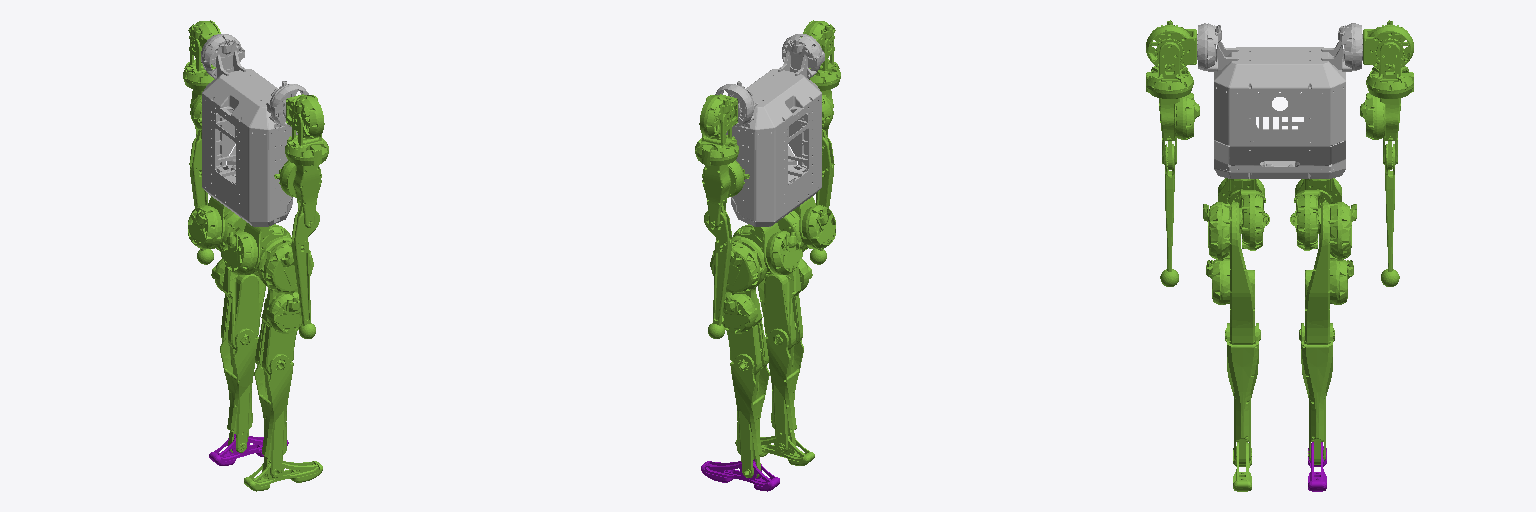
robot.urdf — humanoid:
<?xml version="1.0" encoding="utf-8"?>

<!-- URDF for MIT Humanoid
Version Specifics: "Full" and "Simple Foot"
Full: collision geometries for all links
Simple Foot: foot approximated as single box-contact -->

<robot
  name="humanoid">
  <link
    name="base">
    <inertial>
      <origin
        xyz="0.009598 0.000935 0.151714"
        rpy="0 0 0" />
      <mass value="7.954054" />
      <inertia
        ixx="0.168459"
        ixy="0.000124"
        ixz="0.006493"
        iyy="0.101358"
        iyz="0.000278"
        izz="0.091754" />
    </inertial>
    <visual>
      <origin
        xyz="0 0 0"
        rpy="0 0 0" />
      <geometry>
        <mesh
          filename="../meshes/torso.stl" scale="0.001 0.001 0.001" />
      </geometry>
      <material
        name="">
        <color
          rgba="0.752941176470588 0.752941176470588 0.752941176470588 1" />
      </material>
    </visual>
     <collision>
            <origin rpy="0 0 0" xyz="0.023 0. 0.08"/>
            <geometry>
                <box size="0.15 0.3 0.35"/>
            </geometry>
    </collision>
  </link>
  <link
    name="left_hip_yaw">
    <inertial>
      <origin
        xyz="-0.065362  -0.000128  -0.063947"
        rpy="0 0 0" />
      <mass value=" 0.842752" />
      <inertia
        ixx="0.001502 "
        ixy="0.000004 "
        ixz="0.000533"
        iyy="0.001361 "
        iyz="0.000000"
        izz="0.001170" />
    </inertial>
    <visual>
      <origin
        xyz="0 0 0"
        rpy="0 0 0" />
      <geometry>
        <mesh
          filename="../meshes/left_hip_yaw.stl" scale="0.001 0.001 0.001" />
      </geometry>
      <material
        name="">
        <color
          rgba="0.52941176470588 0.752941176470588 0.2941176470588 1" />
      </material>
    </visual>
  </link>
  <joint
    name="left_hip_yaw"
    type="revolute">
    <origin
      xyz="0 0.082 0"
      rpy="0 -0.174533 0" />
    <parent
      link="base" />
    <child
      link="left_hip_yaw" />
    <axis
      xyz="0 0 -1" />
    <limit effort="34" lower="-3" upper="3" velocity="48"/>
  </joint>
  <link
    name="left_hip_abad">
    <inertial>
      <origin
        xyz=" 0.067579  -0.013035 0.000132"
        rpy="0 0 0" />
      <mass value="1.199631" />
      <inertia
        ixx="0.001745 "
        ixy="0.000003 "
        ixz=" -0.000082"
        iyy="0.003338 "
        iyz=" -0.000010 "
        izz=" 0.001951" />
    </inertial>
    <visual>
      <origin
        xyz="0 0 0"
        rpy="0 0 0" />
      <geometry>
        <mesh
          filename="../meshes/left_hip_abad.stl" scale="0.001 0.001 0.001"/>
      </geometry>
      <material
        name="">
        <color
          rgba="0.52941176470588 0.752941176470588 0.2941176470588 1" />
      </material>
    </visual>
  </link>
  <joint
    name="left_hip_abad"
    type="revolute">
    <origin
      xyz="-0.06435 0 -.07499"
      rpy="0.0 0.436332 0.0"/>
    <parent
      link="left_hip_yaw" />
    <child
      link="left_hip_abad" />
    <axis
      xyz="1 0 0" />
          <limit effort="34" lower="-3" upper="3" velocity="48"/>
  </joint>
 <link 
    name="left_upper_leg">
    <inertial>
      <origin
        xyz=" -0.001100  0.026032 -0.078842"
        rpy="0 0 0" />
      <mass value="2.634789" />
      <inertia
        ixx="0.024489 "
        ixy="0.000068 "
        ixz=" 0.000512 "
        iyy="0.026049 "
        iyz="0.002657 "
        izz="0.003812 " />
    </inertial>
    <visual>
      <origin
        xyz="0 0 0"
        rpy="0 0 0" />
      <geometry>
        <mesh
          filename="../meshes/left_leg_upper.stl" scale="0.001 0.001 0.001" />
      </geometry>
      <material
        name="">
        <color
          rgba="0.52941176470588 0.752941176470588 0.2941176470588 1" />
      </material>
    </visual>
    <collision>
        <origin rpy="0 0 0" xyz="0.0 0.0 -0.16"/>
        <geometry>
            <cylinder radius="0.035" length="0.18"/>
        </geometry>
    </collision>
  </link>
  <joint
    name="left_hip_pitch"
    type="revolute">
    <origin
      xyz="0.08837 -0.00284 -0.01385"
      rpy="0 -0.261799 0" />
    <parent
      link="left_hip_abad" />
    <child
      link="left_upper_leg" />
    <axis
      xyz="0 1 0" />
          <limit effort="72" lower="-3" upper="3" velocity="40"/>
  </joint>

  <link
    name="left_lower_leg">
    <inertial>
      <origin
        xyz="0.005232 0.000457  -0.131581"
        rpy="0 0 0" />
      <mass value="0.346291" />
      <inertia
        ixx=" 0.002952 "
        ixy=" 0.0"
        ixz=" 0.000083"
        iyy=" 0.002943"
        iyz=" 0.000033"
        izz=" 0.000238" />
    </inertial>
    <visual>
      <origin
        xyz="0 0 0"
        rpy="0 0 0" />
      <geometry>
        <mesh
          filename="../meshes/left_leg_lower.stl" scale="0.001 0.001 0.001" />
      </geometry>
      <material
        name="">
        <color
          rgba="0.52941176470588 0.752941176470588 0.2941176470588 1" />
      </material>
    </visual>
    <collision>
        <origin rpy="0 0 0" xyz="0.0 0.0 -0.15"/>
        <geometry>
            <cylinder radius="0.035" length="0.16"/>
        </geometry>
    </collision>
  </link>
  <joint
    name="left_knee"
    type="revolute">
    <origin
      xyz="-0.01306 0.0 -0.24916"
      rpy="0 0 0" />
    <parent
      link="left_upper_leg" />
    <child
      link="left_lower_leg" />
    <axis
      xyz="0 1 0" />
          <limit effort="144" lower="0." upper="3." velocity="20"/>
  </joint>

   <link
    name="left_foot">
    <inertial>
      <origin
        xyz="0.022696 0.0 -0.013879 "
        rpy="0 0 0" />
      <mass value=" 0.279583" />
      <inertia
        ixx="0.000092"
        ixy="0.0"
        ixz="-0.000054 "
        iyy="0.08 "
        iyz="0.0 "
        izz="0.000769" />
    </inertial>
    <!-- Foot inertia Iyy default: 0.000806
    Modified to account for reflected motor inertia -->
    <visual>
      <origin
        xyz="0 0 0"
        rpy="0 0 0" />
      <geometry>
        <mesh
          filename="../meshes/left_foot.stl" scale="0.001 0.001 0.001"/>
      </geometry>
      <material
        name="">
        <color
          rgba="0.63671875 0.12109375 0.752941176470588 1" />
      </material>
    </visual>
    <collision>
        <origin rpy="1.57079 0 0" xyz="0.03 0.0 -0.03"/>
        <geometry>
            <box size="0.20 0.02 0.04"/>
        </geometry>
    </collision>
  </link>
  <joint
    name="left_ankle"
    type="revolute">
    <origin
      xyz="0.0 0.0 -0.2785"
      rpy="0 0 0" />
    <parent
      link="left_lower_leg" />
    <child
      link="left_foot" />
    <axis
      xyz="0 1 0" />
          <limit effort="68" lower="-1.5" upper="1.5" velocity="24"/>
  </joint>
 <link
    name="right_hip_yaw">
    <inertial>
      <origin
        xyz="-0.065362  0.000128  -0.063947"
        rpy="0 0 0" />
      <mass value=" 0.842752" />
      <inertia
        ixx="0.001502 "
        ixy="-0.000004 "
        ixz="-0.000533"
        iyy="0.001361 "
        iyz="0.000000"
        izz="0.001170" />
    </inertial>
    <visual>
      <origin
        xyz="0 0 0"
        rpy="0 0 0" />
      <geometry>
        <mesh
          filename="../meshes/left_hip_yaw.stl" scale="0.001 -0.001 0.001" />
      </geometry>
      <material
        name="">
        <color
          rgba="0.52941176470588 0.752941176470588 0.2941176470588 1" />
      </material>
    </visual>
  </link>
  <joint
    name="right_hip_yaw"
    type="revolute">
    <origin
      xyz="0 -0.082 0"
      rpy="0 -0.174533 0" />
    <parent
      link="base" />
    <child
      link="right_hip_yaw" />
    <axis
      xyz="0 0 1" />
    <limit effort="34" lower="-3" upper="3" velocity="48"/>
  </joint>
  
  <link
    name="right_hip_abad">
    <inertial>
      <origin
        xyz=" 0.067579  0.013035 0.000132"
        rpy="0 0 0" />
      <mass value="1.199631" />
      <inertia
        ixx="0.001745 "
        ixy="-0.000003 "
        ixz=" 0.000082"
        iyy="0.003338 "
        iyz=" -0.000010 "
        izz=" 0.001951" />
    </inertial>
    <visual>
      <origin
        xyz="0 0 0"
        rpy="0 0 0" />
      <geometry>
        <mesh
          filename="../meshes/left_hip_abad.stl" scale="0.001 -0.001 0.001"/>
      </geometry>
      <material
        name="">
        <color
          rgba="0.52941176470588 0.752941176470588 0.2941176470588 1" />
      </material>
    </visual>
  </link>
  <joint
    name="right_hip_abad"
    type="revolute">
    <origin
      xyz="-0.06435 0 -.07499"
      rpy="0.0 0.436332 0.0"/>
    <parent
      link="right_hip_yaw" />
    <child
      link="right_hip_abad" />
    <axis
      xyz="-1 0 0" />
          <limit effort="34" lower="-3" upper="3" velocity="48"/>
  </joint>
  
 <link
    name="right_upper_leg">
    <inertial>
      <origin
        xyz=" -0.001100  -0.026032 -0.078842"
        rpy="0 0 0" />
      <mass value="2.634789" />
      <inertia
        ixx="0.024489 "
        ixy="-0.000068 "
        ixz=" -0.000512 "
        iyy="0.026049 "
        iyz="0.002657 "
        izz="0.003812 " />
    </inertial>
    <visual>
      <origin
        xyz="0 0 0"
        rpy="0 0 0" />
      <geometry>
        <mesh
          filename="../meshes/left_leg_upper.stl" scale="0.001 -0.001 0.001" />
      </geometry>
      <material
        name="">
        <color
          rgba="0.52941176470588 0.752941176470588 0.2941176470588 1" />
      </material>
    </visual>
    <collision>
        <origin rpy="0 0 0" xyz="0.0 0.0 -0.16"/>
        <geometry>
            <cylinder radius="0.035" length="0.18"/>
        </geometry>
    </collision>
  </link>
  <joint
    name="right_hip_pitch"
    type="revolute">
    <origin
      xyz="0.08837 0.00284 -0.01385"
      rpy="0 -0.261799 0" />
    <parent
      link="right_hip_abad" />
    <child
      link="right_upper_leg" />
    <axis
      xyz="0 1 0" />
          <limit effort="72" lower="-3" upper="3" velocity="40"/>
  </joint>
  
  <link
    name="right_lower_leg">
    <inertial>
      <origin
        xyz="0.005232 -0.000457  -0.131581"
        rpy="0 0 0" />
      <mass value="0.346291" />
      <inertia
        ixx=" 0.002952 "
        ixy=" 0.0"
        ixz=" -0.000083"
        iyy=" 0.002943"
        iyz=" 0.000033"
        izz=" 0.000238" />
    </inertial>
    <visual>
      <origin
        xyz="0 0 0"
        rpy="0 0 0" />
      <geometry>
        <mesh
          filename="../meshes/left_leg_lower.stl" scale="0.001 -0.001 0.001" />
      </geometry>
      <material
        name="">
        <color
          rgba="0.52941176470588 0.752941176470588 0.2941176470588 1" />
      </material>
    </visual>
    <collision>
        <origin rpy="0 0 0" xyz="0.0 0.0 -0.15"/>
        <geometry>
            <cylinder radius="0.035" length="0.16"/>
        </geometry>
    </collision>
  </link>
  <joint
    name="right_knee"
    type="revolute">
    <origin
      xyz="-0.01306 0.0 -0.24916"
      rpy="0 0 0" />
    <parent
      link="right_upper_leg" />
    <child
      link="right_lower_leg" />
    <axis
      xyz="0 1 0" />
          <limit effort="144" lower="0." upper="3.0" velocity="20"/>
  </joint>
  
   <link
    name="right_foot">
    <inertial>
      <origin
        xyz="0.022696 0.0 -0.013879 "
        rpy="0 0 0" />
      <mass value=" 0.279583" />
      <inertia
        ixx="0.000092"
        ixy="0.0"
        ixz="0.000054 "
        iyy="0.08 "
        iyz="0.0 "
        izz="0.000769" />
    </inertial>
    <!-- Foot inertia Iyy default: 0.000806
    Modified to account for reflected motor inertia -->
    <visual>
      <origin
        xyz="0 0 0"
        rpy="0 0 0" />
      <geometry>
        <mesh
          filename="../meshes/left_foot.stl" scale="0.001 -0.001 0.001"/>
      </geometry>
      <material
        name="">
        <color
          rgba="0.52941176470588 0.752941176470588 0.2941176470588 1" />
      </material>
    </visual>
    <collision>
        <origin rpy="1.57079 0 0" xyz="0.03 0.0 -0.03"/>
        <geometry>
            <box size="0.20 0.02 0.04"/>
        </geometry>
    </collision>
  </link>
  <joint
    name="right_ankle"
    type="revolute">
    <origin
      xyz="0.0 0.0 -0.2785"
      rpy="0 0 0" />
    <parent
      link="right_lower_leg" />
    <child
      link="right_foot" />
    <axis
      xyz="0 1 0" />
          <limit effort="68" lower="-1.5" upper="1.5" velocity="24"/>
  </joint>
  <!-- Left Arm -->
  <link
    name="left_shoulder">
    <inertial>
      <origin
        xyz="0.009518 0.053027 0.000060"
        rpy="0 0 0" />
      <mass value="0.788506" />
      <inertia
        ixx="0.001363 "
        ixy="0.000024 "
        ixz=" -0.000002 "
        iyy="0.000759 "
        iyz="  0.000001"
        izz="  0.000866" />
    </inertial>
    <visual>
      <origin
        xyz="0 0 0"
        rpy="0 0 0" />
      <geometry>
        <mesh
          filename="../meshes/left_shoulder1.stl" scale="0.001 0.001 0.001"/>
      </geometry>
      <material
        name="">
        <color
          rgba="0.52941176470588 0.752941176470588 0.2941176470588 1" />
      </material>
    </visual>
  </link>
  <joint
    name="left_shoulder_pitch"
    type="revolute">
    <origin
      xyz="0.01911 0.17608 0.30392"
      rpy="0 0 0" />
    <parent
      link="base" />
    <child
      link="left_shoulder" />
    <axis
      xyz="0 1 0" />
          <limit effort="34" lower="-3" upper="3" velocity="48"/>
  </joint>
  
  <link
    name="left_shoulder_2">
    <inertial>
      <origin
        xyz="0.000117 0.000122 -0.082758"
        rpy="0 0 0" />
      <mass value="0.801249" />
      <inertia
        ixx=" 0.001136 "
        ixy="0.000001 "
        ixz="0.000016 "
        iyy="0.001175 "
        iyz=" 0.000001 "
        izz="0.001241 " />
    </inertial>
    <visual>
      <origin
        xyz="0 0 0"
        rpy="0 0 0" />
      <geometry>
        <mesh
          filename="../meshes/left_shoulder2.stl" scale="0.001 0.001 0.001"/>
      </geometry>
      <material
        name="">
        <color
          rgba="0.52941176470588 0.752941176470588 0.2941176470588 1" />
      </material>
    </visual>
  </link>
  <joint
    name="left_shoulder_abad"
    type="revolute">
    <origin
      xyz="0 .05760 0"
      rpy="0.0 0 0" />
    <parent
      link="left_shoulder" />
    <child
      link="left_shoulder_2" />
    <axis
      xyz="1 0 0" />
        <limit effort="34" lower="-3" upper="3" velocity="48"/>
  </joint>
  <!--  -->
  
  <link
    name="left_upper_arm">
    <inertial>
      <origin
        xyz="-0.000073 -0.016471  -0.063210"
        rpy="0 0 0" />
      <mass value="0.905588" />
      <inertia
        ixx=" 0.001353 "
        ixy="0.000002 "
        ixz="0.000001 "
        iyy="0.001804 "
        iyz="-0.000061 "
        izz="0.000796 " />
    </inertial>
    <visual>
      <origin
        xyz="0 0 0"
        rpy="0 0 0" />
      <geometry>
        <mesh
          filename="../meshes/left_shoulder3.stl" scale="0.001 0.001 0.001"/>
      </geometry>
      <material
        name="">
        <color
          rgba="0.52941176470588 0.752941176470588 0.2941176470588 1" />
      </material>
    </visual>
    <collision>
        <origin rpy="0 0 0" xyz="0 -0.01 -0.035"/>
        <geometry>
            <!-- <box size="0.1 0.085 0.15"/> -->
            <cylinder radius="0.05" length="0.15"/>
        </geometry>
    </collision>
  </link>
  <joint
    name="left_shoulder_yaw"
    type="revolute">
    <origin
      xyz="0 0 -.10250"
      rpy="0.0 0 0" />
    <parent
      link="left_shoulder_2" />
    <child
      link="left_upper_arm" />
    <axis
      xyz="0 0 -1" />
        <limit effort="34" lower="-3" upper="3" velocity="48"/>
  </joint>

  <link
    name="left_lower_arm">
    <inertial>
      <origin
        xyz="-0.007103 -0.000073 -0.099203"
        rpy="0 0 0" />
      <mass value="0.348390" />
      <inertia
        ixx="0.003400 "
        ixy="0.0 "
        ixz="-0.000049 "
        iyy="0.003453 "
        iyz="-0.000002 "
        izz="0.000078 " />
    </inertial>
    <visual>
      <origin
        xyz="0 0 0"
        rpy="0 0 0" />
      <geometry>
        <mesh
          filename="../meshes/left_forearm.stl" scale="0.001 0.001 0.001"/>
      </geometry>
      <material
        name="">
        <color
          rgba="0.52941176470588 0.752941176470588 0.2941176470588 1" />
      </material>
    </visual>
    <collision>
        <origin rpy="0 0 0" xyz="-0.01 0 -0.15"/>
        <geometry>
            <cylinder radius="0.025" length="0.15"/>
        </geometry>
    </collision>
  </link>
  <joint
    name="left_elbow"
    type="revolute">
    <origin
      xyz="0 0 -.15750"
      rpy="0 0 0.0" />
    <parent
      link="left_upper_arm" />
    <child
      link="left_lower_arm" />
    <axis
      xyz="0 1 0" />
        <limit effort="55" lower="-3" upper="3" velocity="30"/>
  </joint>
  <link
    name="left_hand">
    <inertial>
      <origin
        xyz="0.0 -0.0 -0.27"
        rpy="0 0 0" />
      <mass value="0.001" />
      <inertia
        ixx="0.0"
        ixy="0.0"
        ixz="0.0"
        iyy="0.0"
        iyz="0.0"
        izz="0.0" />
    </inertial>
      <collision>
        <origin rpy="1.57079 0 0" xyz="0.0 0.0 0."/>
        <geometry>
            <cylinder radius="0.025" length="0.015"/>
        </geometry>
    </collision>
  </link>
  <joint
    name="left_hand_link"
    type="fixed">
    <origin
      xyz="0 0 -0.27"
      rpy="0 0 0" />
    <parent
      link="left_lower_arm" />
    <child
      link="left_hand" />
  </joint>

  <!-- Right Arm -->
  <link
    name="right_shoulder">
    <inertial>
      <origin
        xyz="0.009518 -0.053027 0.000060"
        rpy="0 0 0" />
      <mass value="0.788506" />
      <inertia
        ixx="0.001363 "
        ixy="-0.000024 "
        ixz=" 0.000002 "
        iyy="0.000759 "
        iyz="  0.000001"
        izz="  0.000866" />
    </inertial>
    <visual>
      <origin
        xyz="0 0 0"
        rpy="0 0 0" />
      <geometry>
        <mesh
          filename="../meshes/left_shoulder1.stl" scale="0.001 -0.001 0.001"/>
      </geometry>
      <material
        name="">
        <color
          rgba="0.52941176470588 0.752941176470588 0.2941176470588 1" />
      </material>
    </visual>
  </link>
  <joint
    name="right_shoulder_pitch"
    type="revolute">
    <origin
      xyz="0.01911 -0.17608 0.30392"
      rpy="0 0 0" />
    <parent
      link="base" />
    <child
      link="right_shoulder" />
    <axis
      xyz="0 1 0" />
          <limit effort="34" lower="-3" upper="3" velocity="48"/>
  </joint>

  <link
    name="right_shoulder_2">
    <inertial>
      <origin
        xyz="0.000117 -0.000122 -0.082758"
        rpy="0 0 0" />
      <mass value="0.801249" />
      <inertia
        ixx=" 0.001136 "
        ixy="-0.000001 "
        ixz="-0.000016 "
        iyy="0.001175 "
        iyz=" 0.000001 "
        izz="0.001241 " />
    </inertial>
    <visual>
      <origin
        xyz="0 0 0"
        rpy="0 0 0" />
      <geometry>
        <mesh
          filename="../meshes/left_shoulder2.stl" scale="0.001 -0.001 0.001"/>
      </geometry>
      <material
        name="">
        <color
          rgba="0.52941176470588 0.752941176470588 0.2941176470588 1" />
      </material>
    </visual>
  </link>
  <joint
    name="right_shoulder_abad"
    type="revolute">
    <origin
      xyz="0 -.05760 0"
      rpy="0.0 0 0" />
    <parent
      link="right_shoulder" />
    <child
      link="right_shoulder_2" />
    <axis
      xyz="-1 0 0" />
        <limit effort="34" lower="-3" upper="3" velocity="48"/>
  </joint>
  <!--  -->

  <link
    name="right_upper_arm">
    <inertial>
      <origin
        xyz="-0.000073 0.016471  -0.063210"
        rpy="0 0 0" />
      <mass value="0.905588" />
      <inertia
        ixx=" 0.001353 "
        ixy="-0.000002 "
        ixz="-0.000001 "
        iyy="0.001804 "
        iyz="-0.000061 "
        izz="0.000796 " />
    </inertial>
    <visual>
      <origin
        xyz="0 0 0"
        rpy="0 0 0" />
      <geometry>
        <mesh
          filename="../meshes/left_shoulder3.stl" scale="0.001 -0.001 0.001"/>
      </geometry>
      <material
        name="">
        <color
          rgba="0.52941176470588 0.752941176470588 0.2941176470588 1" />
      </material>
    </visual>
    <collision>
        <origin rpy="0 0 0" xyz="0 -0.01 -0.035"/>
        <geometry>
            <!-- <box size="0.1 0.085 0.15"/> -->
            <cylinder radius="0.05" length="0.15"/>
        </geometry>
    </collision>
  </link>
  <joint
    name="right_shoulder_yaw"
    type="revolute">
    <origin
      xyz="0 0 -.10250"
      rpy="0.0 0 0" />
    <parent
      link="right_shoulder_2" />
    <child
      link="right_upper_arm" />
    <axis
      xyz="0 0 1" />
        <limit effort="34" lower="-3" upper="3" velocity="48"/>
  </joint>

  <link
    name="right_lower_arm">
    <inertial>
      <origin
        xyz="-0.007103 -0.000073 -0.099203"
        rpy="0 0 0" />
      <mass value="0.348390" />
      <inertia
        ixx="0.003400 "
        ixy="0.0 "
        ixz="-0.000049 "
        iyy="0.003453 "
        iyz="-0.000002 "
        izz="0.000078 " />
    </inertial>
    <visual>
      <origin
        xyz="0 0 0"
        rpy="0 0 0" />
      <geometry>
        <mesh
          filename="../meshes/left_forearm.stl" scale="0.001 0.001 0.001"/>
      </geometry>
      <material
        name="">
        <color
          rgba="0.52941176470588 0.752941176470588 0.2941176470588 1" />
      </material>
    </visual>
    <collision>
        <origin rpy="0 0 0" xyz="-0.01 0 -0.15"/>
        <geometry>
            <cylinder radius="0.025" length="0.15"/>
        </geometry>
    </collision>
  </link>
  <joint
    name="right_elbow"
    type="revolute">
    <origin
      xyz="0 0 -.15750"
      rpy="0 0 0.0" />
    <parent
      link="right_upper_arm" />
    <child
      link="right_lower_arm" />
    <axis
      xyz="0 1 0" />
        <limit effort="55" lower="-3" upper="3" velocity="30"/>
  </joint>
    <link
    name="right_hand">
    <inertial>
      <origin
        xyz="0.0 -0.0 -0.27"
        rpy="0 0 0" />
      <mass value="0.001" />
      <inertia
        ixx="0.0"
        ixy="0.0"
        ixz="0.0"
        iyy="0.0"
        iyz="0.0"
        izz="0.0" />
    </inertial>
      <collision>
        <origin rpy="1.57079 0 0" xyz="0.0 0.0 0."/>
        <geometry>
            <cylinder radius="0.025" length="0.015"/>
        </geometry>
    </collision>
  </link>
  <joint
    name="right_hand_link"
    type="fixed">
    <origin
      xyz="0 0 -0.27"
      rpy="0 0 0" />
    <parent
      link="right_lower_arm" />
    <child
      link="right_hand" />
  </joint>

</robot>

--- Facts derived from the render (not from the file) ---
3 views of the same robot in one strip: view 1: azimuth 30°, elevation 25°; view 2: azimuth 150°, elevation 25°; view 3: azimuth 270°, elevation 25° (orthographic).
Robot: humanoid — 21 links, 20 joints (18 revolute, 2 fixed); root link base; default pose: all joints at 0.
Visible links, largest first — view 1: base, right_upper_leg, right_lower_leg, left_lower_leg, left_upper_leg, right_lower_arm, right_upper_arm, right_hip_yaw, left_hip_yaw, right_shoulder_2, right_foot, right_shoulder (+4 smaller); view 2: base, left_upper_leg, left_lower_leg, right_lower_leg, right_upper_leg, left_lower_arm, left_upper_arm, left_hip_yaw, right_hip_yaw, left_shoulder_2, left_foot, left_shoulder (+4 smaller); view 3: base, left_upper_leg, right_upper_leg, left_lower_leg, right_lower_leg, left_upper_arm, right_upper_arm, left_shoulder_2, right_shoulder_2, left_shoulder, right_shoulder, left_hip_abad (+7 smaller).
Boxes of the visible links, x1,y1,x2,y2 form: base: (201, 34, 308, 226); right_upper_leg: (255, 236, 313, 374); right_lower_leg: (254, 354, 293, 477); left_lower_leg: (220, 328, 258, 452); left_upper_leg: (211, 211, 265, 349); right_lower_arm: (291, 211, 319, 338); right_upper_arm: (274, 160, 321, 227); right_hip_yaw: (221, 223, 270, 274); left_hip_yaw: (188, 196, 228, 248); right_shoulder_2: (285, 111, 328, 165); right_foot: (244, 459, 322, 491); right_shoulder: (286, 94, 324, 138); base: (715, 34, 824, 226); left_upper_leg: (710, 236, 768, 374); left_lower_leg: (730, 354, 769, 477); right_lower_leg: (765, 328, 803, 452); right_upper_leg: (758, 211, 812, 349); left_lower_arm: (704, 211, 732, 338); left_upper_arm: (702, 160, 749, 227); left_hip_yaw: (753, 223, 802, 274); right_hip_yaw: (795, 196, 835, 248); left_shoulder_2: (695, 111, 738, 165); left_foot: (701, 459, 779, 491); left_shoulder: (699, 94, 737, 138); base: (1197, 23, 1362, 178); left_upper_leg: (1299, 202, 1356, 344); right_upper_leg: (1203, 202, 1260, 344); left_lower_leg: (1301, 323, 1332, 464); right_lower_leg: (1227, 323, 1258, 464); left_upper_arm: (1360, 93, 1400, 169); right_upper_arm: (1159, 93, 1199, 169); left_shoulder_2: (1366, 42, 1413, 98); right_shoulder_2: (1146, 42, 1193, 98); left_shoulder: (1363, 20, 1413, 71); right_shoulder: (1146, 20, 1196, 71); left_hip_abad: (1290, 189, 1331, 250).
Bounding box of the posed robot: 0.2421 × 0.5684 × 1.05 m (x, y, z).
Meshes: 10 distinct files referenced, 19 mesh visuals loaded (10 binary STL).